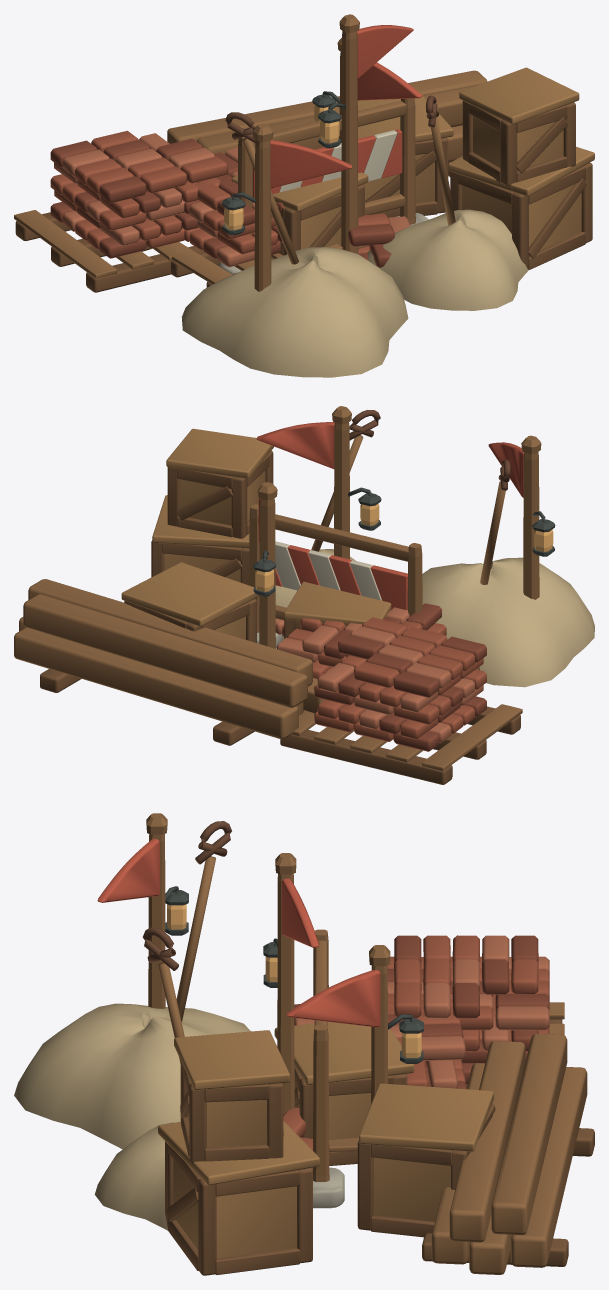
The model's file is ENV_Construction_Site_A.fbx.
3 views of the same model, one above another, from view 1: azimuth 30°, elevation 25°; view 2: azimuth 150°, elevation 25°; view 3: azimuth 270°, elevation 25° (orthographic). The views are drawn at different scales.
Parts seen in each view (by area): view 1: Site_Yard_LOD0, Site_Pallet_LOD0, Site_Crate_LOD0, Site_Fence_LOD0; view 2: Site_Yard_LOD0, Site_Pallet_LOD0, Site_Fence_LOD0, Site_Crate_LOD0; view 3: Site_Yard_LOD0, Site_Pallet_LOD0, Site_Crate_LOD0, Site_Fence_LOD0.
Boxes of the visible parts, box(x1,y1,x2,y2) form: Site_Yard_LOD0: box(14, 14, 594, 377); Site_Pallet_LOD0: box(141, 91, 528, 310); Site_Crate_LOD0: box(231, 38, 422, 267); Site_Fence_LOD0: box(218, 98, 428, 273); Site_Yard_LOD0: box(14, 406, 594, 784); Site_Pallet_LOD0: box(121, 410, 555, 678); Site_Fence_LOD0: box(249, 504, 422, 648); Site_Crate_LOD0: box(253, 482, 391, 648); Site_Yard_LOD0: box(14, 821, 594, 1275); Site_Pallet_LOD0: box(94, 813, 495, 1237); Site_Crate_LOD0: box(274, 945, 423, 1169); Site_Fence_LOD0: box(313, 929, 344, 1208).
Size of what is drawn, in the model's own units: 2.73 by 1.41 by 2.48.
